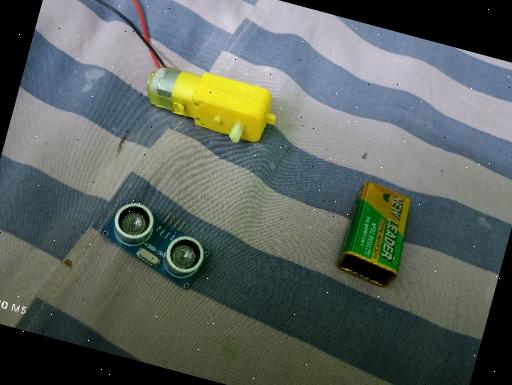Battery: (333, 178, 420, 290)
Motor: (137, 57, 284, 152)
sensor: (90, 191, 220, 294)
